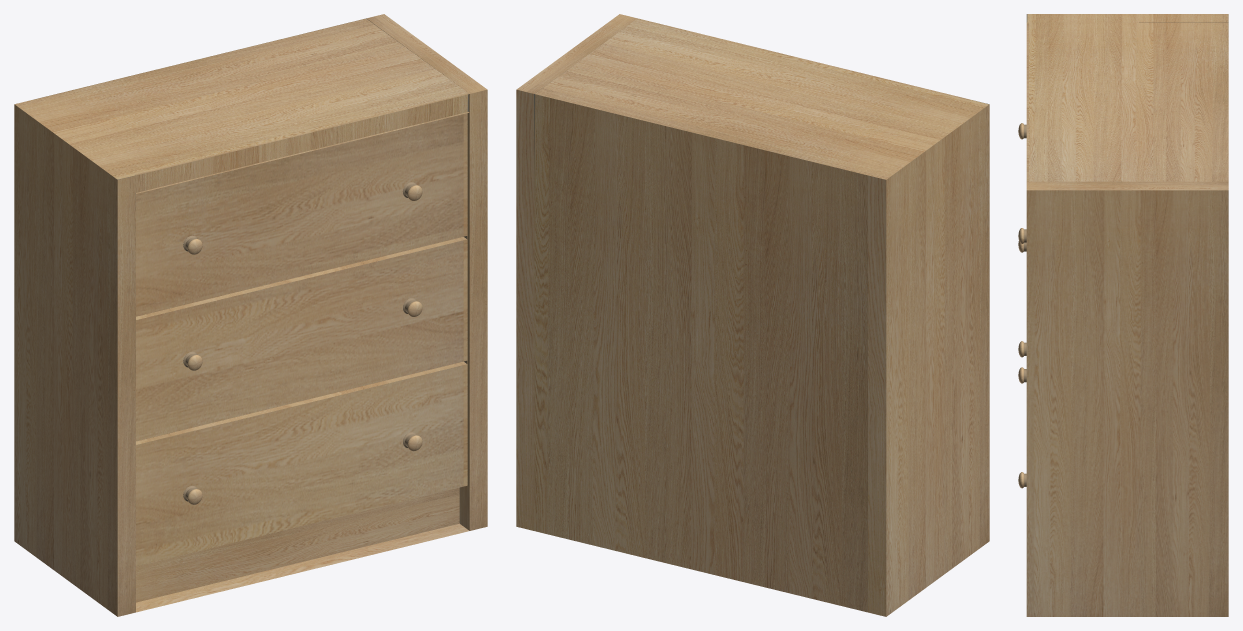
3 renders of one model, left to right at view 1: azimuth 30°, elevation 25°; view 2: azimuth 150°, elevation 25°; view 3: azimuth 270°, elevation 25°, orthographic. The views are drawn at different scales.
Visible parts, largest first — view 1: Plane, Plane Check; view 2: Plane; view 3: Plane.
Part boxes in pixels (x1,y1,x2,y2): Plane: (14,14,487,616); Plane Check: (136,523,468,612); Plane: (516,14,989,616); Plane: (1026,14,1228,616).
Size of the model in its own units: 62 by 70.01 by 31.24.
1 material, 1 textured.
